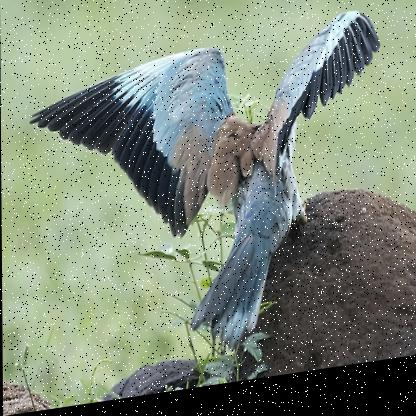Burung: (30, 16, 383, 377)
